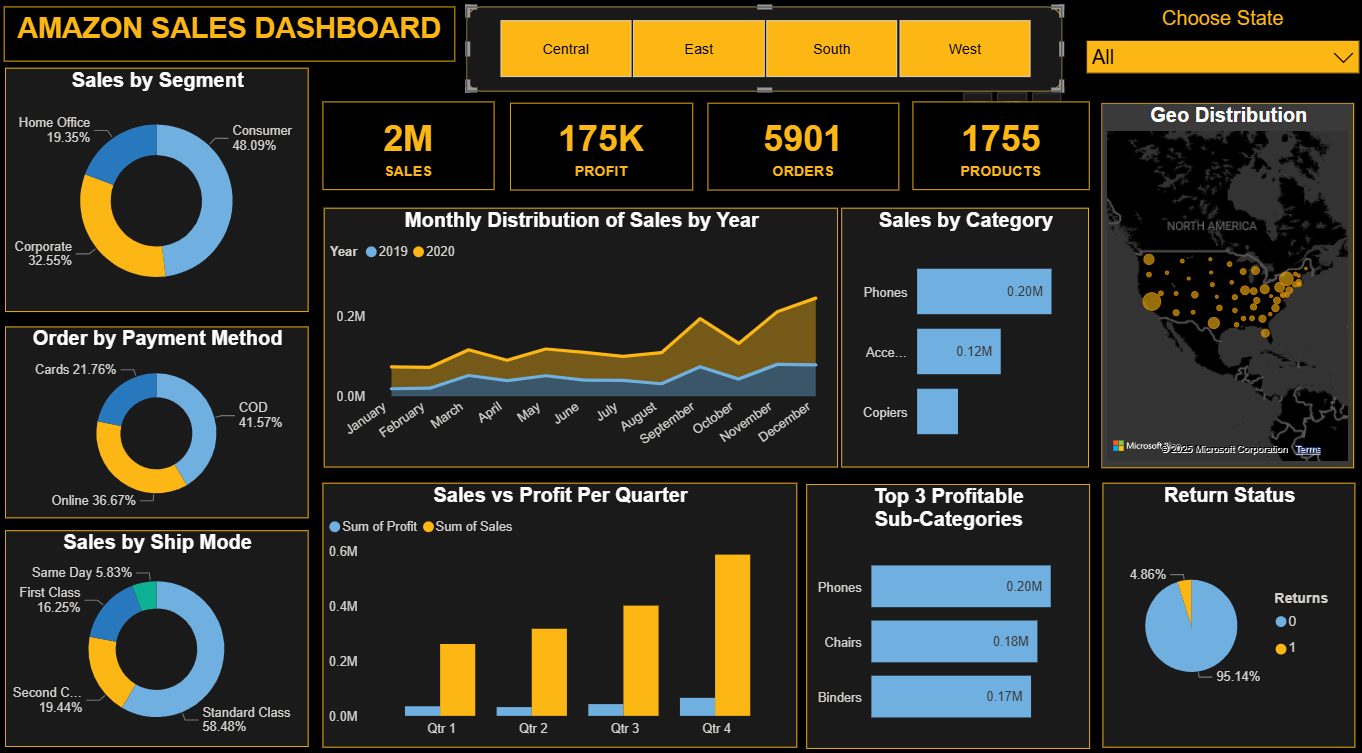

The page's visual inventory and layout, read from the dashboard file:
{"tool":"powerbi","page":{"name":"Page 1","canvas":[1280,720],"ordinal":0},"visuals":[{"type":"clusteredBarChart","title":"Top 3 Profitable Sub-Categories","fields":{"Category":["Sheet1.Sub-Category"],"Y":["Sum(Sheet1.Sales)"]},"box":[755,460,263.8,246.2],"z":0},{"type":"clusteredBarChart","title":"Sales by Category","fields":{"Y":["Sum(Sheet1.Sales)"],"Category":["Sheet1.Sub-Category"]},"box":[787.7,203.7,230.7,241.7],"z":1000},{"type":"donutChart","title":"Sales by Segment","fields":{"Category":["Sheet1.Segment"],"Y":["Sum(Sheet1.Sales)"]},"box":[8.8,73.8,282.5,227.5],"z":2000},{"type":"donutChart","fields":{"Category":["Sheet1.Payment Mode"],"Y":["CountNonNull(Sheet1.Order ID)"]},"box":[8.8,313.8,282.5,178.8],"z":3000},{"type":"pieChart","title":"Return Status","fields":{"Category":["Sheet1.Returns"],"Y":["CountNonNull(Sheet1.Order ID)"]},"box":[1030,458.8,235,246.2],"z":4000},{"type":"stackedAreaChart","title":"Monthly Distribution of Sales by Year","fields":{"Y":["Sum(Sheet1.Sales)"],"Category":["Sheet1.Order Date.Variation.Date Hierarchy.Month"],"Series":["Sheet1.Order Date.Variation.Date Hierarchy.Year"]},"box":[305.5,203.7,478.5,241.7],"z":5000},{"type":"clusteredColumnChart","title":"Sales vs Profit Per Quarter","fields":{"Category":["Sheet1.Order Date.Variation.Date Hierarchy.Quarter"],"Y":["Sum(Sheet1.Profit)","Sum(Sheet1.Sales)"]},"box":[305,458.8,441.2,246.2],"z":6000},{"type":"map","title":"Geo Distribution","fields":{"Category":["Sheet1.State"],"Size":["Sum(Sheet1.Sales)"]},"box":[1029.5,105.5,235.6,339.9],"z":7000},{"type":"slicer","fields":{"Values":["Sheet1.Region"]},"box":[438.8,0,553.8,95],"z":8000},{"type":"slicer","title":"Choose State","fields":{"Values":["Sheet1.State"]},"box":[1005,16.2,275,78.8],"z":9000},{"type":"textbox","box":[8.6,16,419.6,51.5],"z":10000},{"type":"card","fields":{"Values":["Sum(Sheet1.Sales)"]},"box":[305,105,160,82.5],"z":11000},{"type":"card","fields":{"Values":["Sum(Sheet1.Profit)"]},"box":[478.8,106.2,170,81.2],"z":12000},{"type":"card","fields":{"Values":["CountNonNull(Sheet1.Order ID)"]},"box":[662.5,106.2,178.8,81.2],"z":13000},{"type":"card","fields":{"Values":["Count(Sheet1.Product ID)"]},"box":[853.8,105,165,82.5],"z":14000},{"type":"donutChart","title":"Sales by Ship Mode","fields":{"Category":["Sheet1.Ship Mode"],"Y":["CountNonNull(Sheet1.Order ID)"]},"box":[8.8,503.8,282.5,201.2],"z":15000}]}

Visuals, with their boxes in screenshot pixels (x1, y1, x2, y2), scaled from the page's 1280x720 canvas onto the 1362x753 screenshot:
"Top 3 Profitable Sub-Categories" clusteredBarChart: [803, 481, 1084, 739]
"Sales by Category" clusteredBarChart: [838, 213, 1084, 466]
"Sales by Segment" donutChart: [9, 77, 310, 315]
donutChart - Sheet1.Payment Mode x CountNonNull(Sheet1.Order ID): [9, 328, 310, 515]
"Return Status" pieChart: [1096, 480, 1346, 737]
"Monthly Distribution of Sales by Year" stackedAreaChart: [325, 213, 834, 466]
"Sales vs Profit Per Quarter" clusteredColumnChart: [325, 480, 794, 737]
"Geo Distribution" map: [1095, 110, 1346, 466]
slicer - Sheet1.Region: [467, 0, 1056, 99]
"Choose State" slicer: [1069, 17, 1361, 99]
textbox: [9, 17, 456, 71]
card - Sum(Sheet1.Sales): [325, 110, 495, 196]
card - Sum(Sheet1.Profit): [509, 111, 690, 196]
card - CountNonNull(Sheet1.Order ID): [705, 111, 895, 196]
card - Count(Sheet1.Product ID): [908, 110, 1084, 196]
"Sales by Ship Mode" donutChart: [9, 527, 310, 737]
